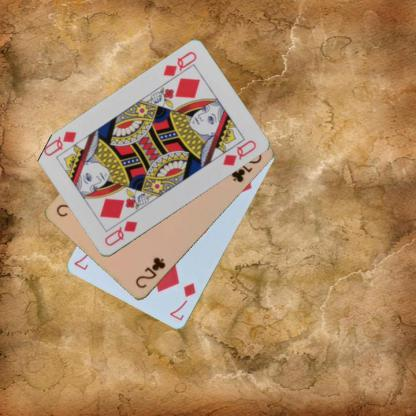2c: (133, 255, 167, 290)
7d: (167, 280, 197, 323)
Qd: (160, 48, 198, 86), (101, 218, 138, 248)
